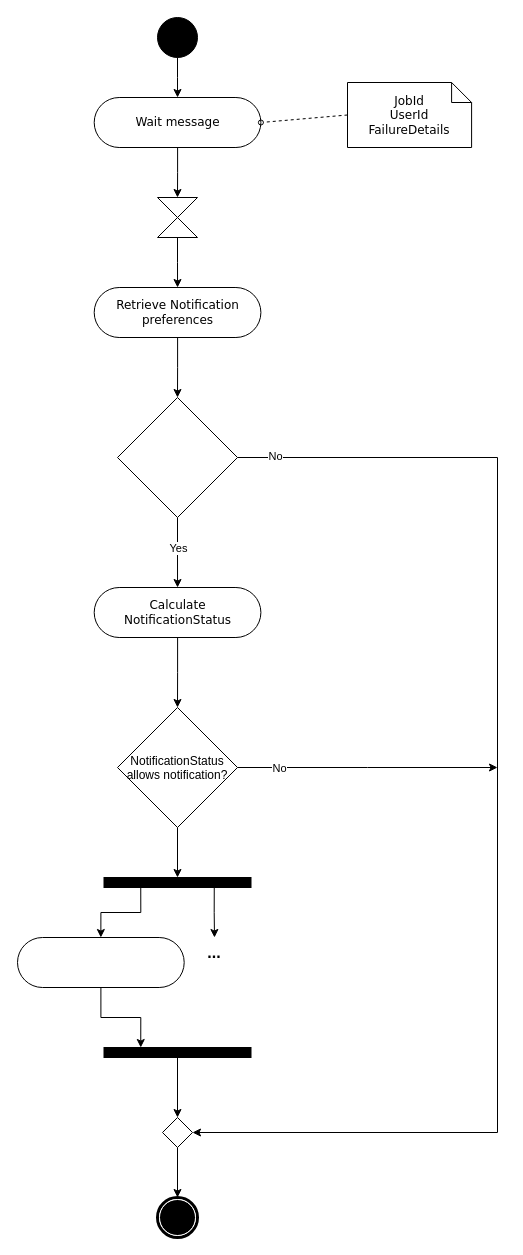
Some shapes in this 523 by 1255 pixel diagram are drawn without their labels. Each missing label, with the centre of its shape:
"Notification preferences exists?" goes at (x=177, y=457).
"Send Notification according to preferences" goes at (x=100, y=962).
